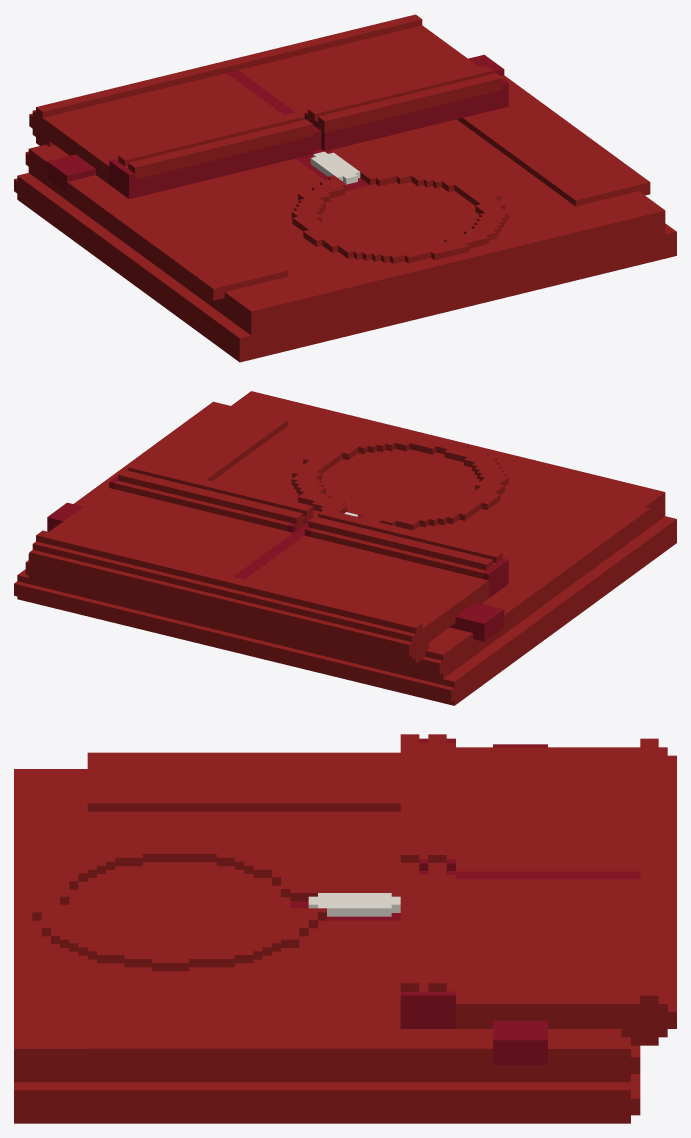
The model's file is union_suit.glb.
The picture shows the model from 3 angles, top to bottom: view 1: azimuth 30°, elevation 25°; view 2: azimuth 150°, elevation 25°; view 3: azimuth 270°, elevation 25°; orthographic projection. The views are drawn at different scales.
Parts seen in each view (by area): view 1: union_suit:compound; view 2: union_suit:compound; view 3: union_suit:compound.
Boxes of the visible parts, box(x1,y1,x2,y2) form: union_suit:compound: box(14, 14, 676, 362); union_suit:compound: box(14, 391, 676, 705); union_suit:compound: box(14, 734, 676, 1123).
Bounding box in the file's own units: 0.304 × 0.056 × 0.288.
